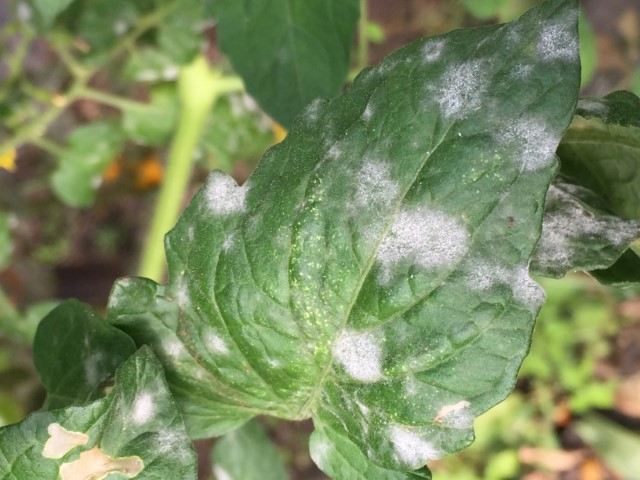oidio: (376, 209, 469, 285), (541, 213, 637, 264), (426, 56, 496, 122), (470, 259, 545, 317), (494, 115, 560, 170), (331, 328, 388, 386), (349, 157, 399, 209), (383, 424, 440, 467), (201, 171, 251, 218), (537, 8, 577, 64), (154, 426, 194, 464), (360, 55, 411, 81), (548, 186, 588, 216), (129, 392, 153, 428), (354, 400, 373, 440), (202, 332, 230, 359), (419, 37, 448, 63), (107, 278, 131, 307), (83, 352, 102, 387), (175, 277, 190, 311), (504, 22, 524, 47), (163, 340, 186, 361), (511, 62, 534, 82), (449, 409, 473, 426), (305, 96, 321, 121), (324, 140, 343, 161), (222, 229, 237, 253), (361, 102, 372, 120), (186, 226, 194, 241)
